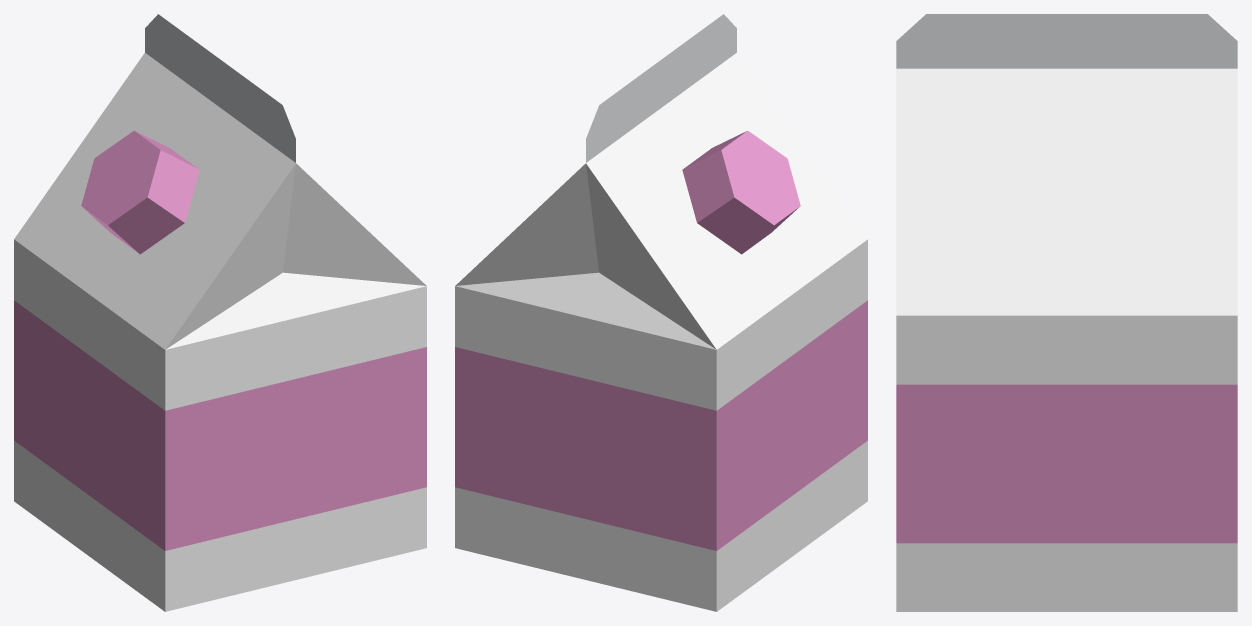
The model's file is cartonSmall.glb.
3 renders of one model, left to right at view 1: azimuth 30°, elevation 25°; view 2: azimuth 150°, elevation 25°; view 3: azimuth 270°, elevation 25°, orthographic. The views are drawn at different scales.
Visible parts, largest first — view 1: cartonSmall; view 2: cartonSmall; view 3: cartonSmall.
Part boxes in pixels (box(x1,y1,x2,y2)): cartonSmall: box(14, 14, 426, 611); cartonSmall: box(455, 14, 867, 611); cartonSmall: box(896, 14, 1237, 611).
Size of the model in its own units: 0.092 by 0.1562 by 0.092.
